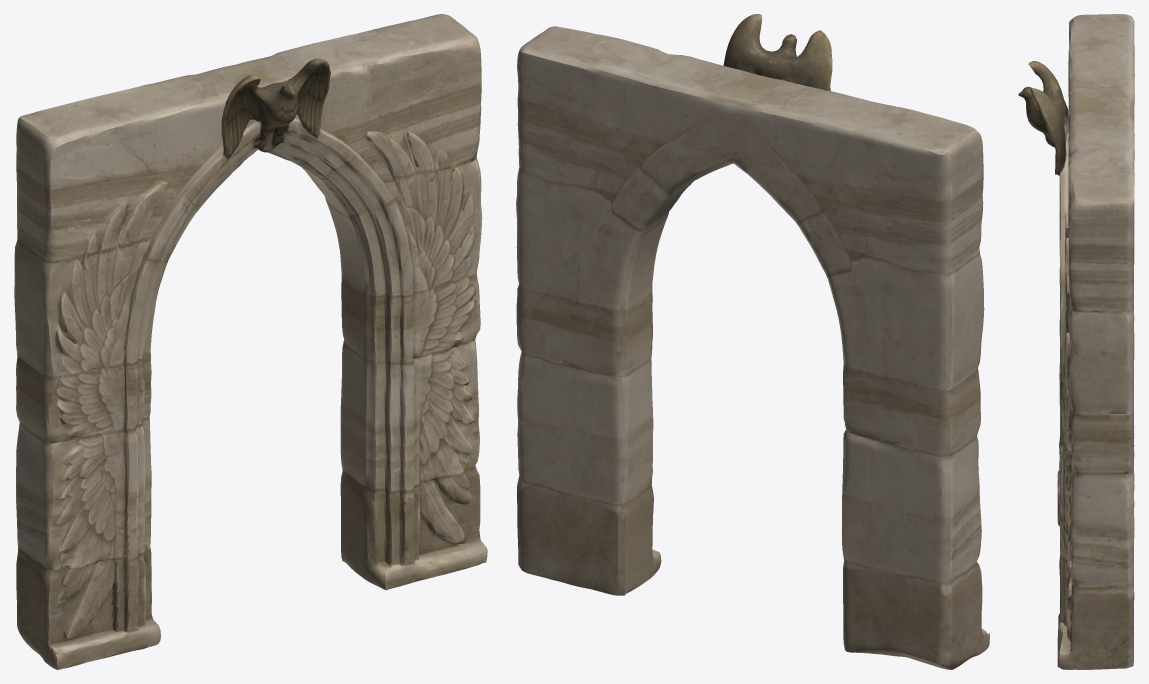
The model's file is meadows_arch_cloudreach.glb.
The picture shows the model from 3 angles, left to right: view 1: azimuth 30°, elevation 25°; view 2: azimuth 150°, elevation 25°; view 3: azimuth 270°, elevation 25°; orthographic projection. The views are drawn at different scales.
Visible parts, largest first — view 1: Mesh_0; view 2: Mesh_0; view 3: Mesh_0.
Part boxes in pixels (x1=…): Mesh_0: x1=14, y1=14, x2=487, y2=669; Mesh_0: x1=516, y1=14, x2=989, y2=669; Mesh_0: x1=1018, y1=14, x2=1134, y2=669.
Bounding box in the file's own units: 1.55 × 1.9 × 0.3986.
Materials: 1 (1 with a texture image).
